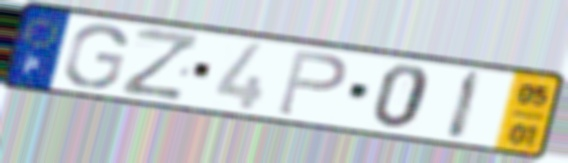0: (368, 62, 432, 131)
4: (211, 41, 268, 115)
G: (61, 22, 131, 91)
I: (443, 68, 486, 144)
P: (274, 47, 350, 119)
Z: (117, 25, 203, 103)
